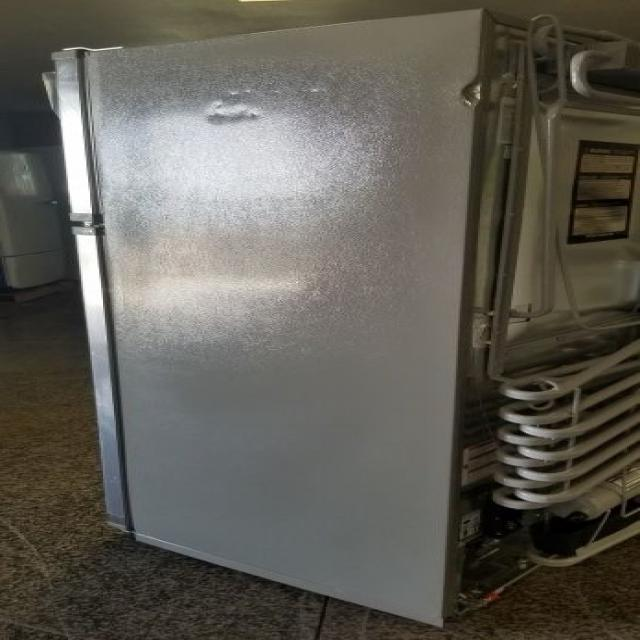dents: (176, 92, 306, 135)
